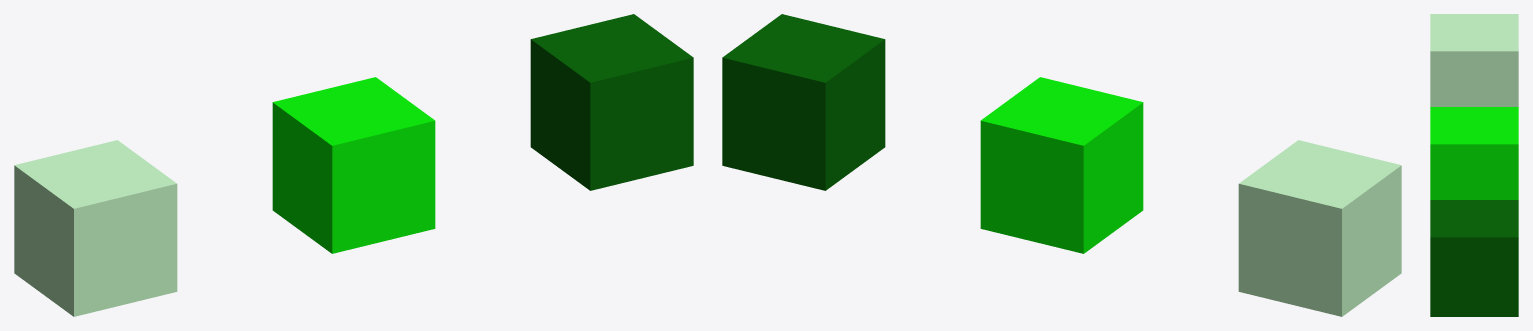
The picture shows the model from 3 angles, left to right: view 1: azimuth 30°, elevation 25°; view 2: azimuth 150°, elevation 25°; view 3: azimuth 270°, elevation 25°; orthographic projection. The views are drawn at different scales.
Size of the model in its own units: 0.06 by 0.01 by 0.01.
